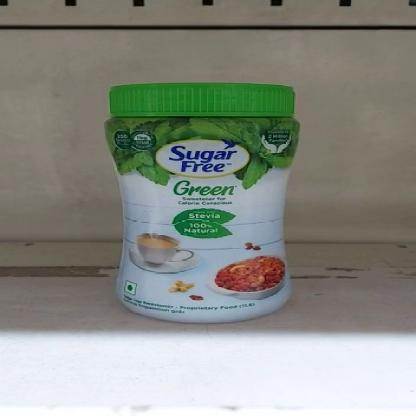SUGAR FREE_GRN_ POWDER_CONC_100G: (104, 81, 305, 326)
